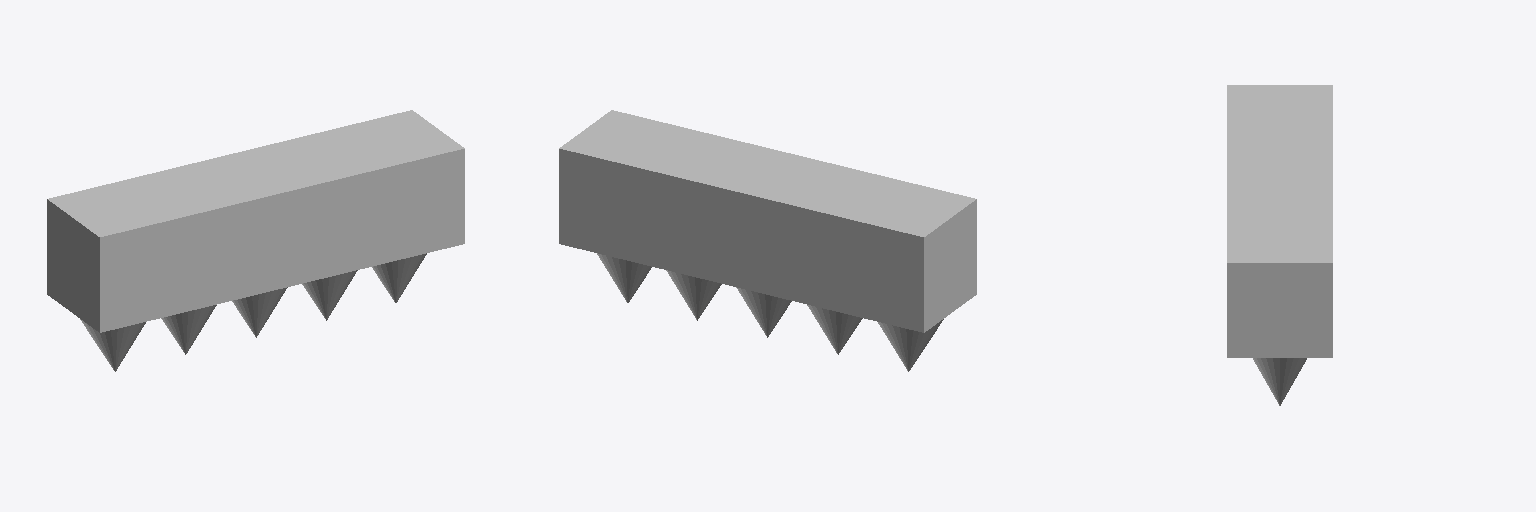
File: platform_damage_bottom.obj
3 renders of one model, left to right at view 1: azimuth 30°, elevation 25°; view 2: azimuth 150°, elevation 25°; view 3: azimuth 270°, elevation 25°, orthographic.
Parts seen in each view (by area): view 1: 円錐.004; view 2: 円錐.004; view 3: 円錐.004.
Boxes of the visible parts, <box> form: 円錐.004: <box>47,110,464,371</box>; 円錐.004: <box>559,110,976,371</box>; 円錐.004: <box>1227,85,1332,405</box>.
Size of the model in its own units: 4 by 1.72 by 1.